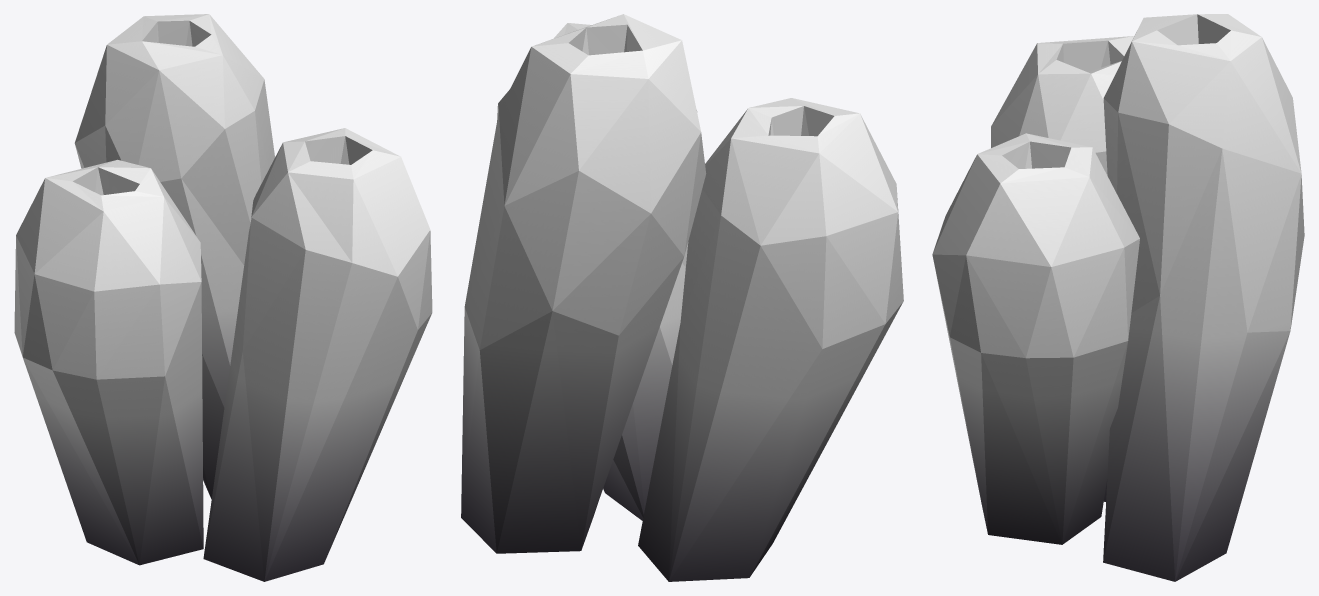
Rendered from SM_Spongia_7.fbx.
3 renders of one model, left to right at view 1: azimuth 30°, elevation 25°; view 2: azimuth 150°, elevation 25°; view 3: azimuth 270°, elevation 25°, orthographic. The views are drawn at different scales.
Visible parts, largest first — view 1: Spongia_7; view 2: Spongia_7; view 3: Spongia_7.
Part boxes in pixels (x1=…): Spongia_7: x1=14, y1=14, x2=432, y2=581; Spongia_7: x1=461, y1=14, x2=903, y2=581; Spongia_7: x1=932, y1=14, x2=1304, y2=581.
Bounding box in the file's own units: 62.32 × 75.69 × 53.03.
